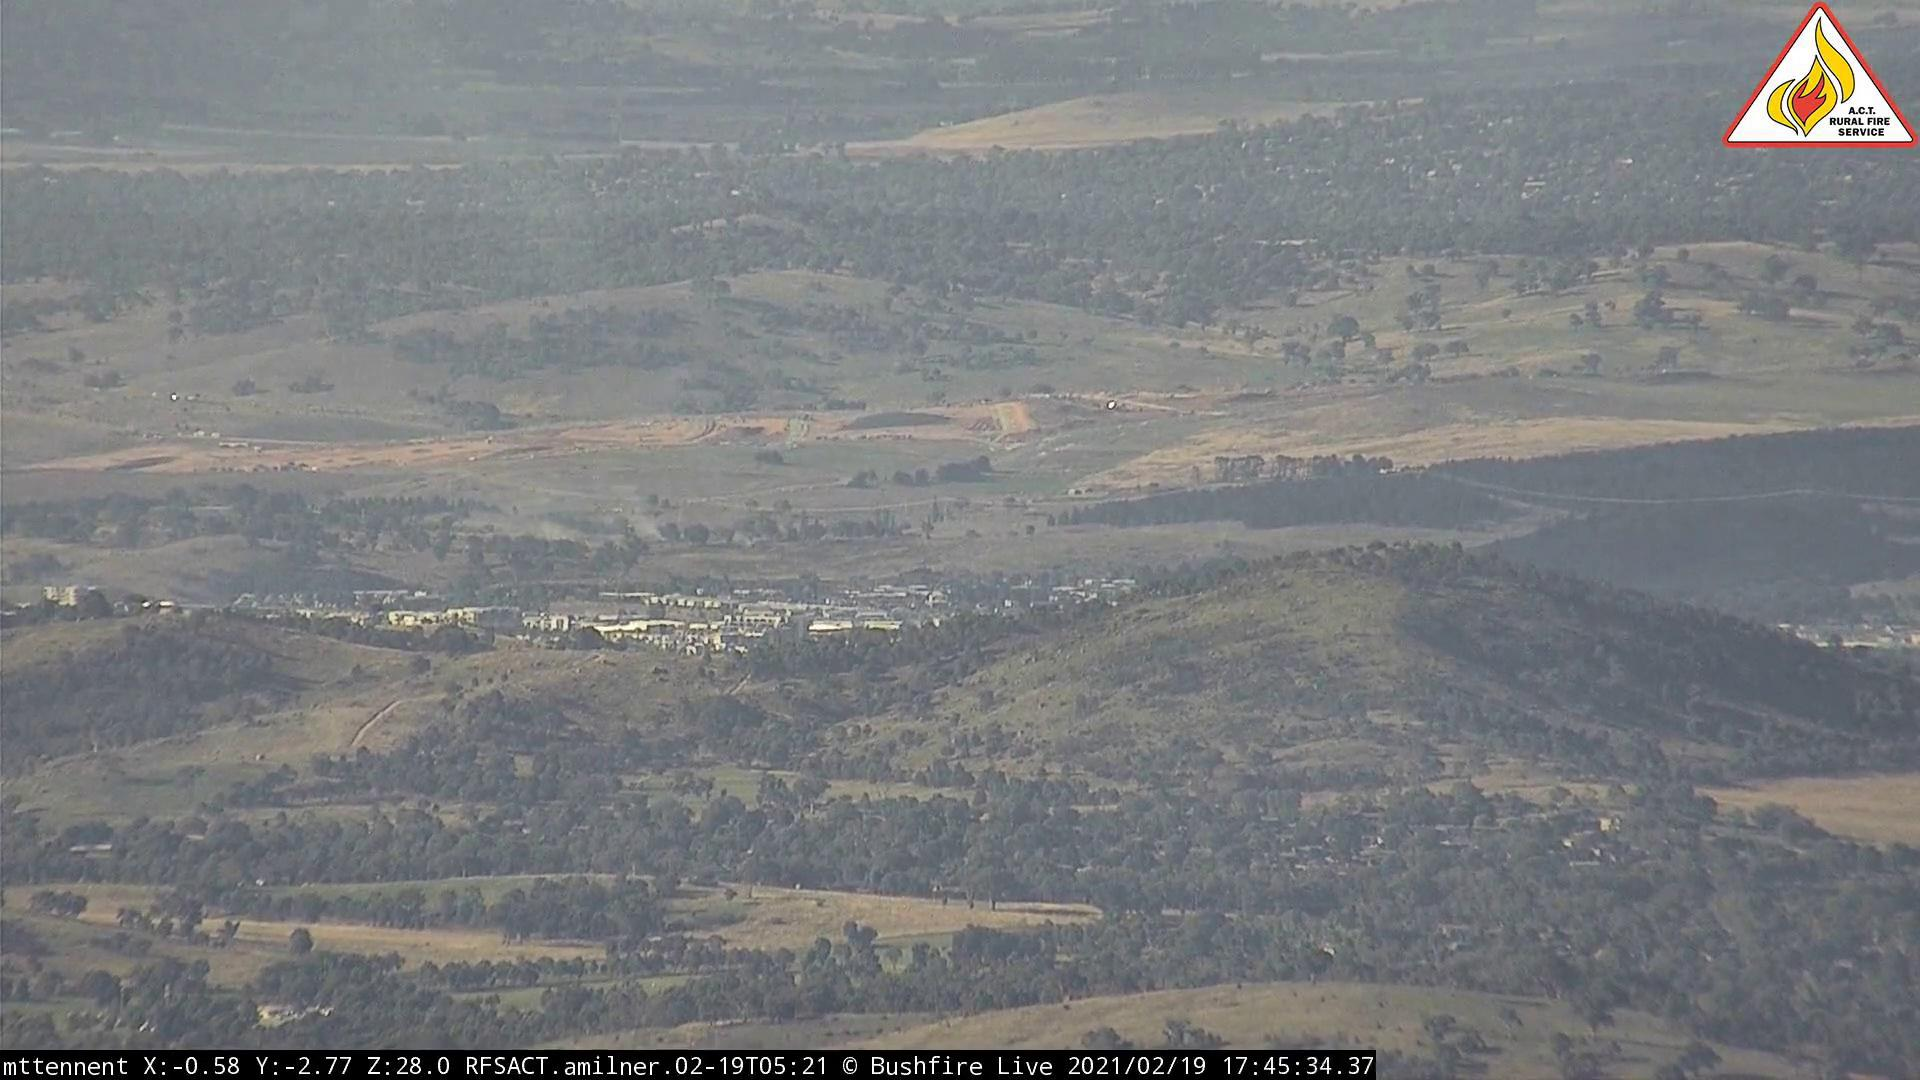Smoke: (574, 488, 674, 546), (731, 517, 771, 556)
